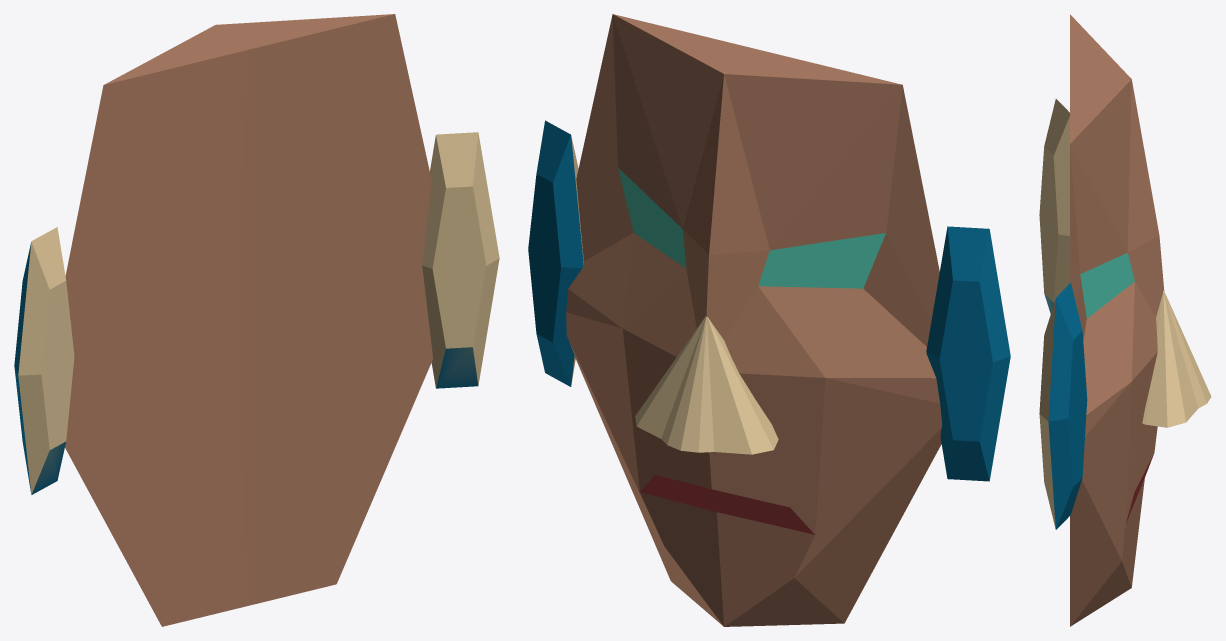
The model's file is ThunderMask.fbx.
The picture shows the model from 3 angles, left to right: view 1: azimuth 30°, elevation 25°; view 2: azimuth 150°, elevation 25°; view 3: azimuth 270°, elevation 25°; orthographic projection. The views are drawn at different scales.
Parts seen in each view (by area): view 1: Face, Orelha; view 2: Face, Orelha, Nariz, Olhos, Boca; view 3: Face, Orelha, Nariz, Olhos.
Boxes of the visible parts, x1,y1,x2,y2 form: Face: [65, 14, 433, 626]; Orelha: [14, 132, 499, 494]; Face: [566, 14, 942, 626]; Orelha: [528, 120, 1010, 481]; Nariz: [635, 316, 778, 454]; Olhos: [618, 168, 885, 288]; Boca: [640, 474, 814, 534]; Face: [1070, 14, 1164, 626]; Orelha: [1039, 99, 1087, 529]; Nariz: [1142, 290, 1211, 427]; Olhos: [1080, 253, 1134, 318].
Size of the model in its own units: 822 by 908 by 278.
